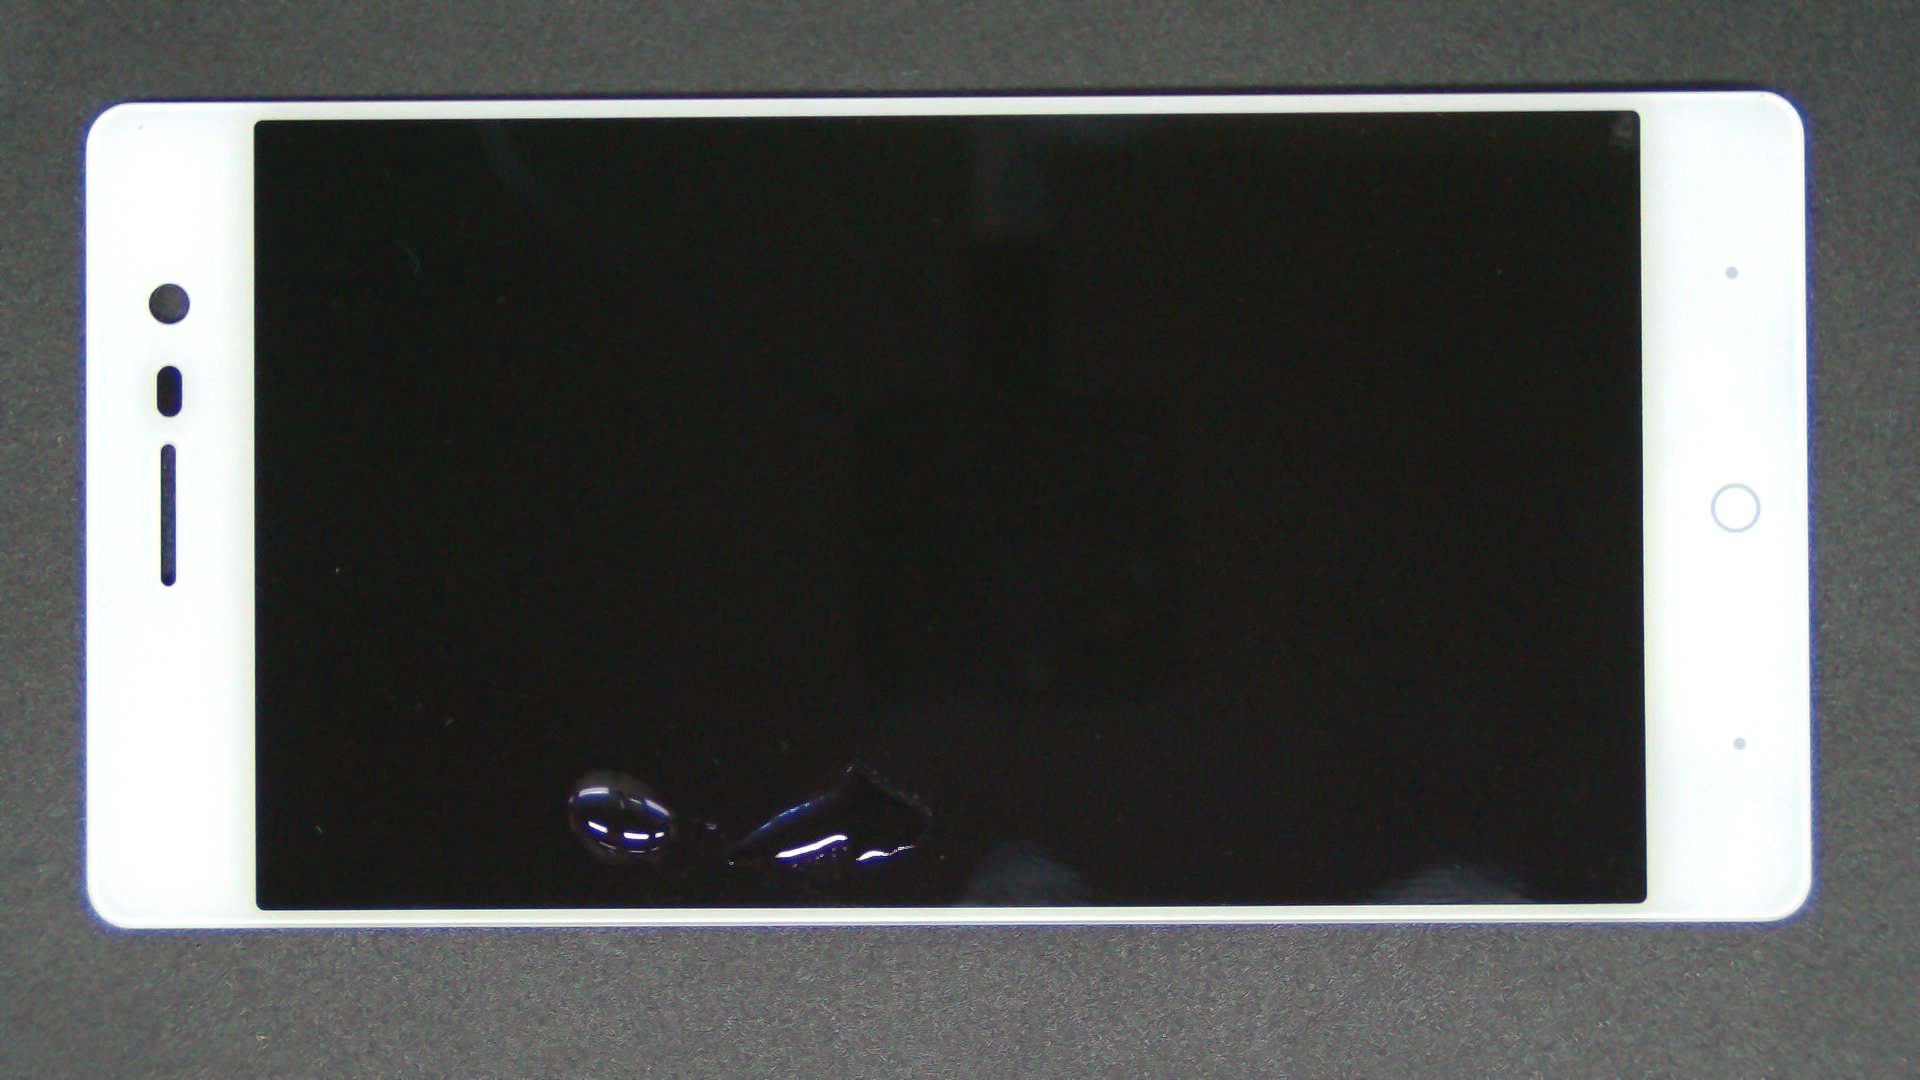defect: (724, 760, 934, 866), (566, 770, 678, 866), (705, 822, 716, 829)
